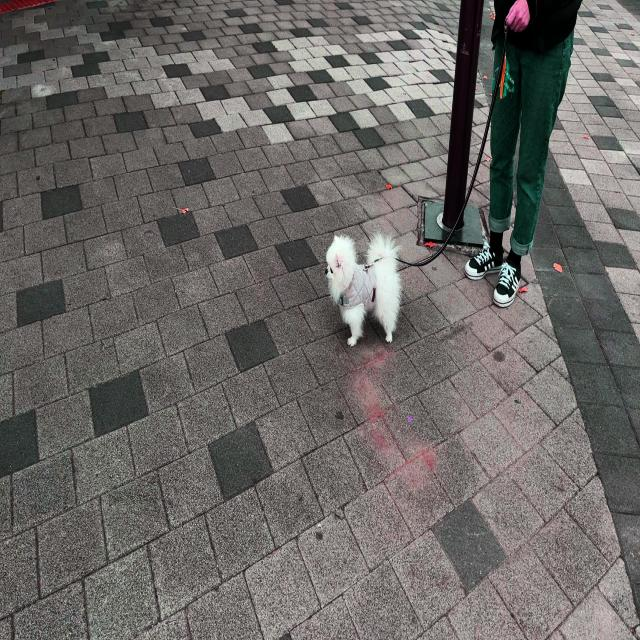Leashed_Dog: (325, 0, 544, 346)
